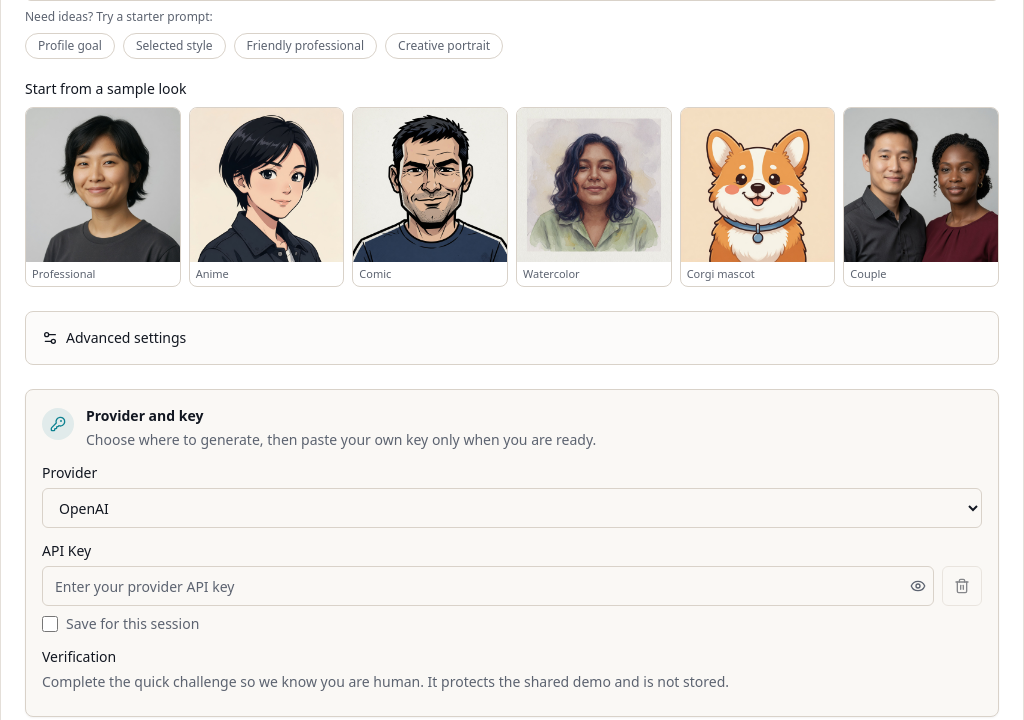
Test: GenerationForm › hides advanced controls until the user expands them
(page scrolled)
Expected: the field labelled "Creativity" is not shown
Expected: the field labelled "Size" is not shown
Click the button "Advanced settings".
click(126, 338)  # box top-left (42, 328), bottom-right (982, 348)
(page scrolled)
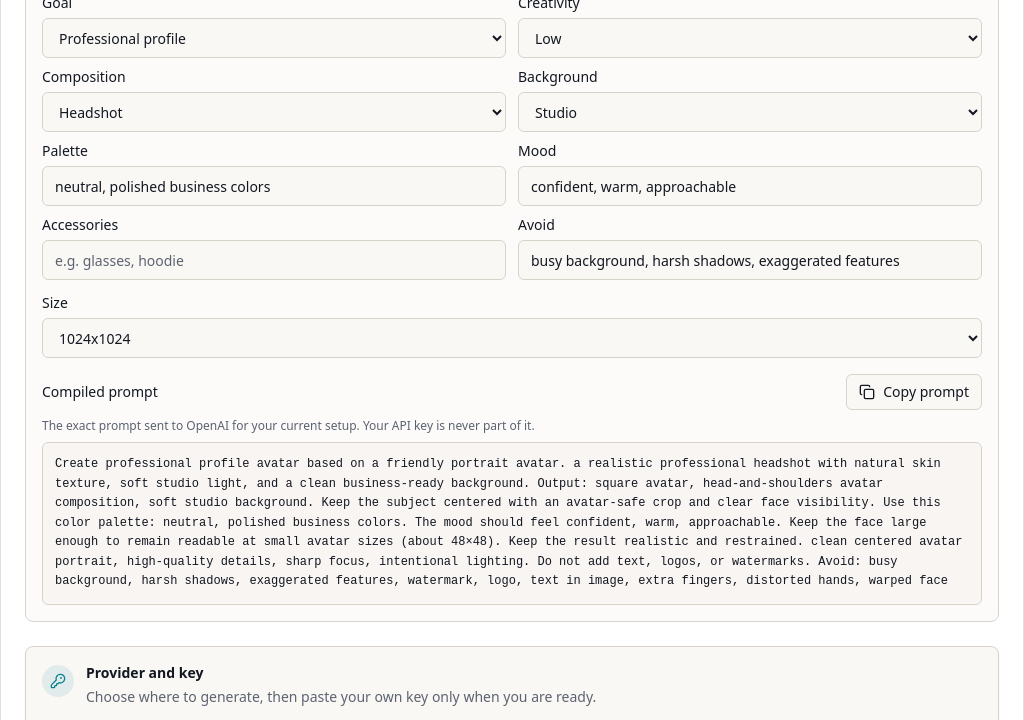
Result: the dropdown labelled "Creativity" is shown at top-left (518, 18), bottom-right (982, 58)
Result: the dropdown labelled "Size" is shown at top-left (42, 318), bottom-right (982, 358)
